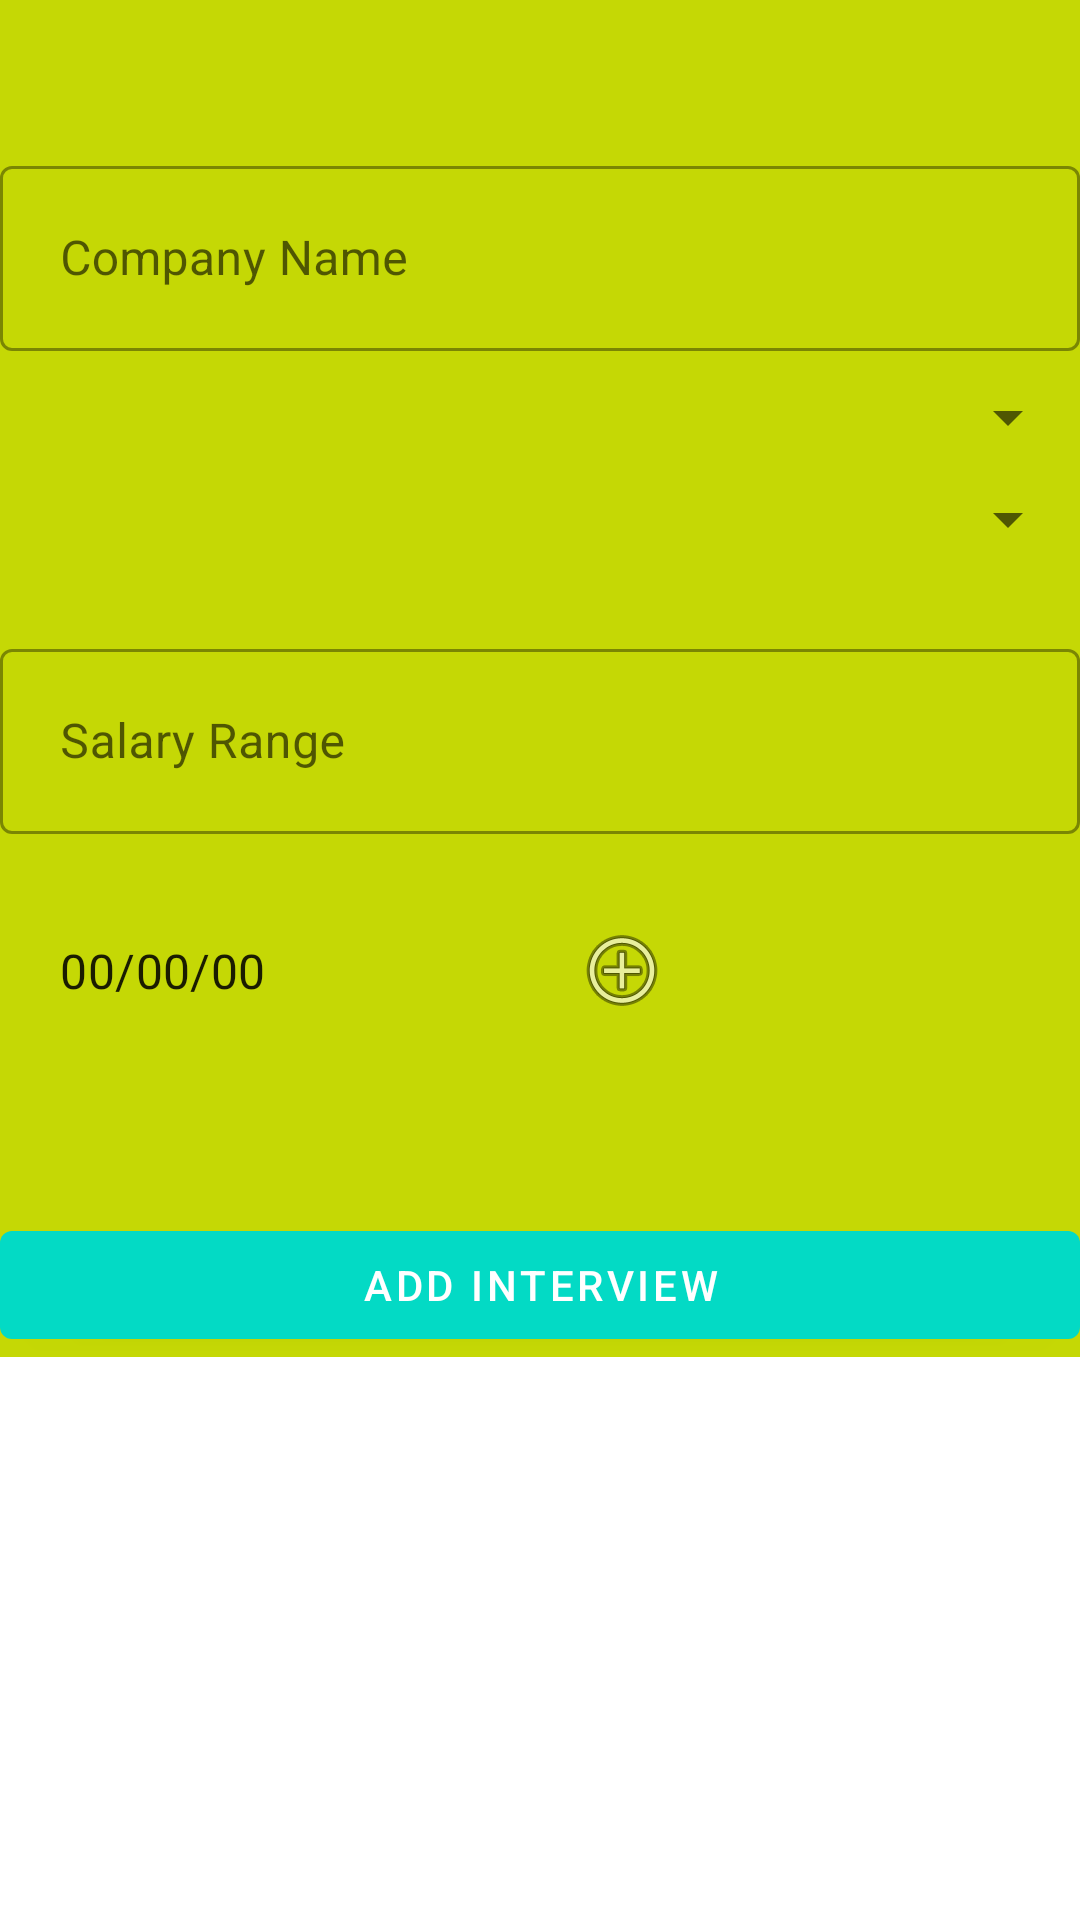

Icon click points for this 1080px×1920px phone screenshot, format (x=x, y=y):
add: (x=622, y=970)
